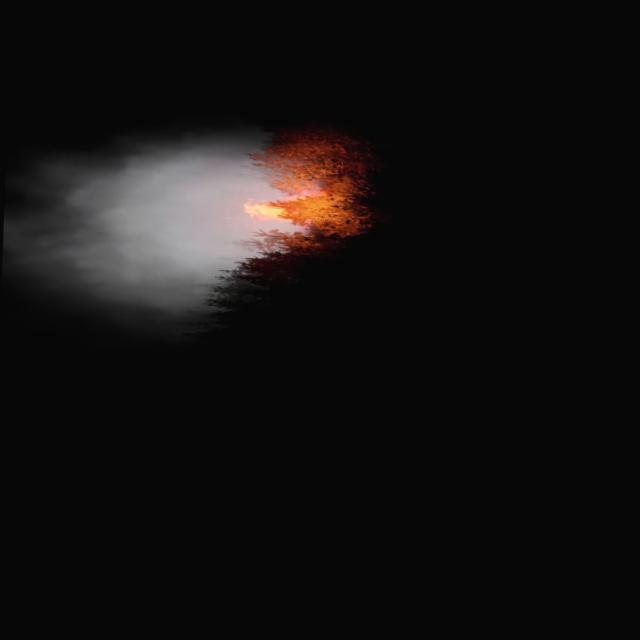fire: (240, 193, 310, 222)
smoke: (0, 124, 316, 326)
